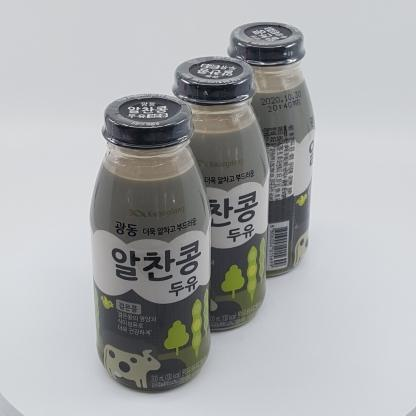--------200ML: (89, 93, 211, 390), (157, 56, 270, 331), (214, 21, 315, 278)
